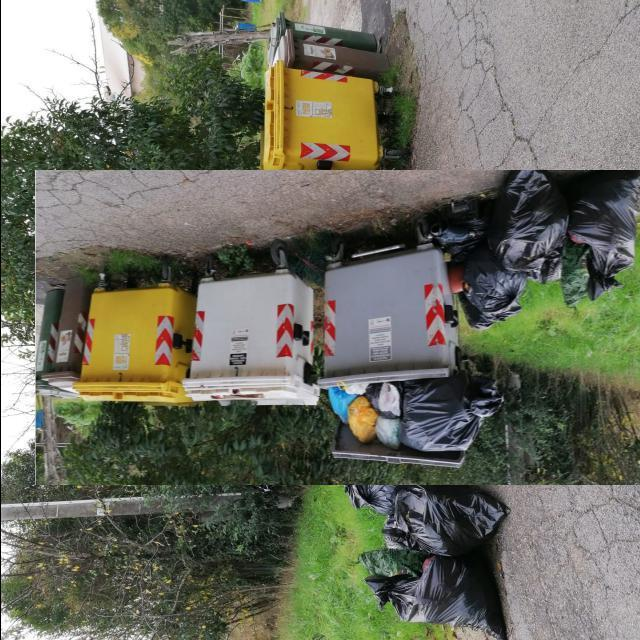Trashbag: (364, 548, 510, 640), (396, 368, 502, 454), (494, 165, 574, 278), (569, 170, 640, 284), (395, 481, 505, 553), (454, 242, 524, 330), (338, 475, 398, 514)
